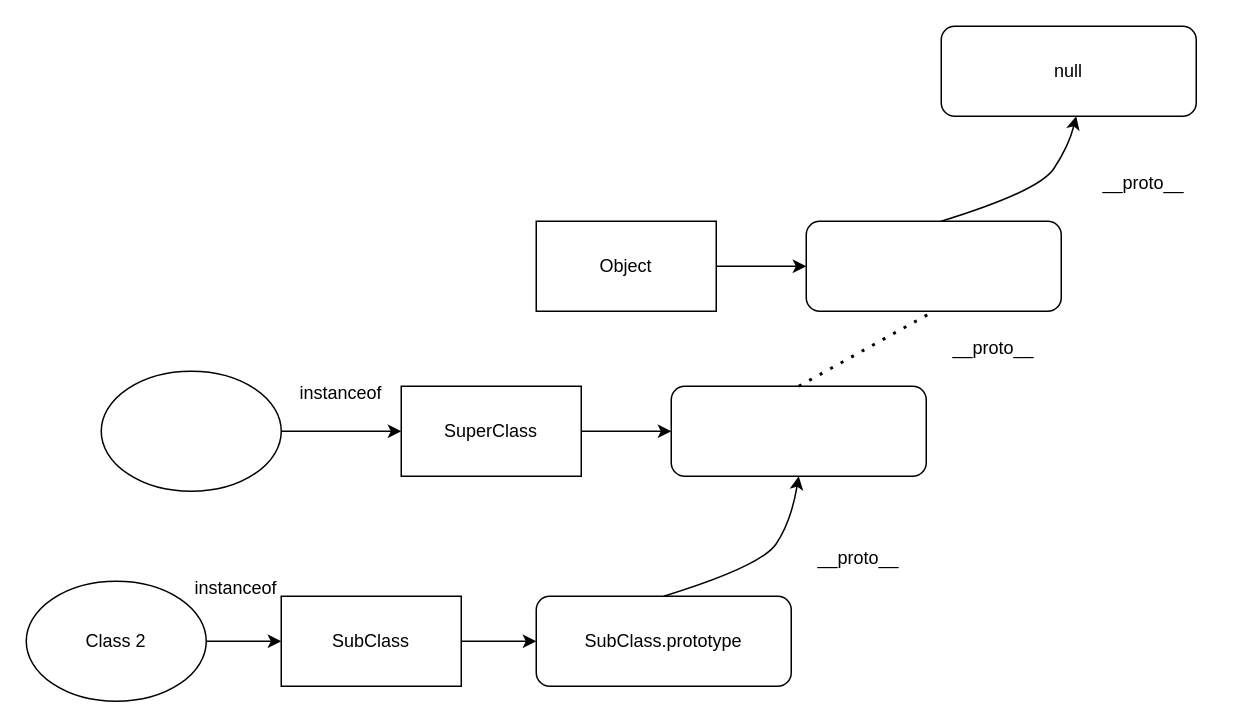
The diagram is 1238 pixels wide and 728 high, and some of its shapes have lost their labels. Each missing label, with the box of its shape:
Class 1: (100, 370, 281, 491)
Object.prototype: (805, 220, 1061, 311)
SuperClass.prototype: (670, 385, 926, 476)
